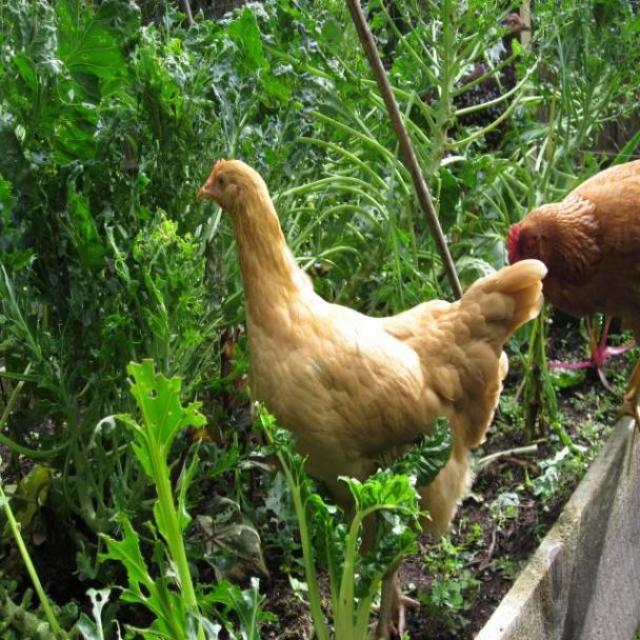Chicken: (201, 155, 545, 631), (501, 160, 640, 417)
